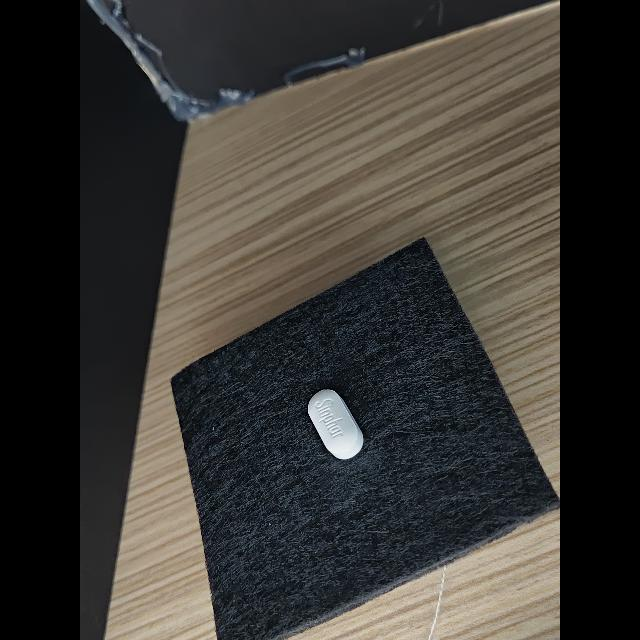Intact Pill: (308, 389, 363, 459)
